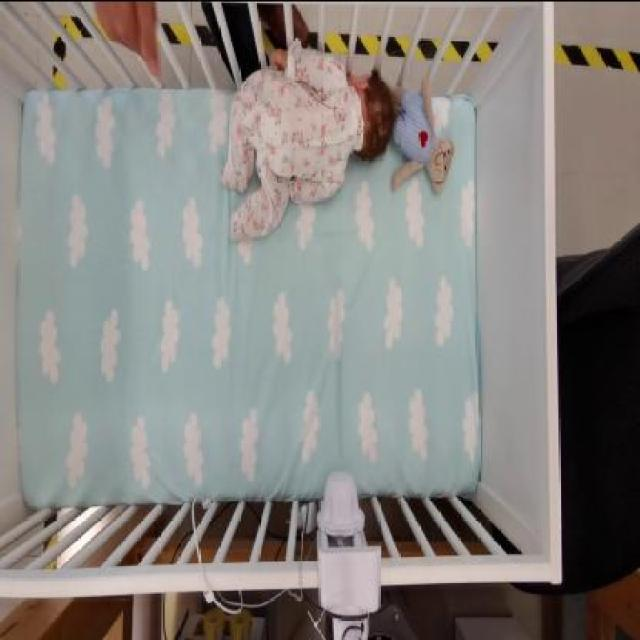baby: (221, 46, 400, 244)
